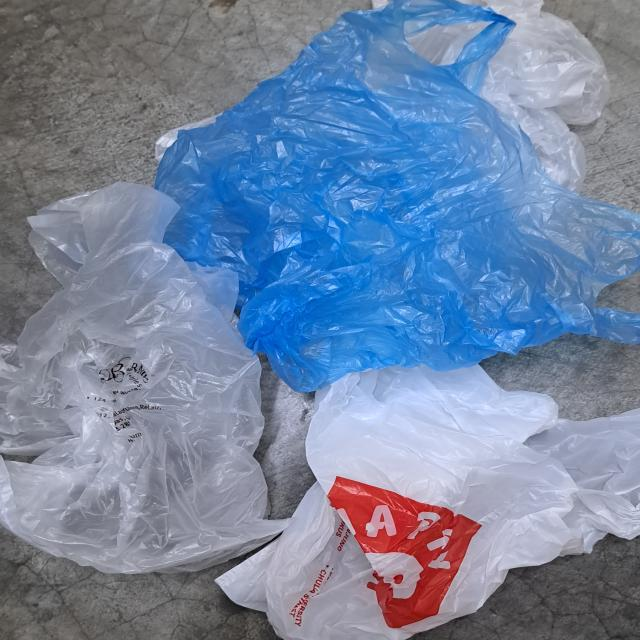plastic bag: (157, 0, 640, 393), (214, 347, 640, 640), (0, 183, 299, 577), (368, 0, 610, 204)
